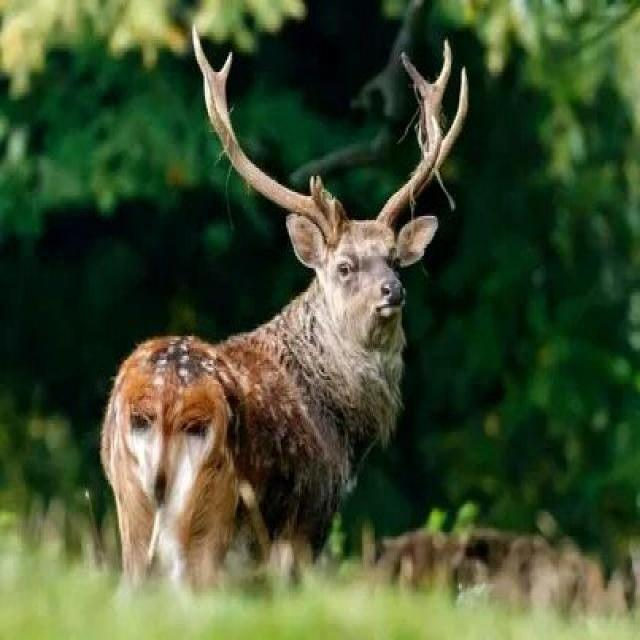deer: (70, 24, 492, 587)
